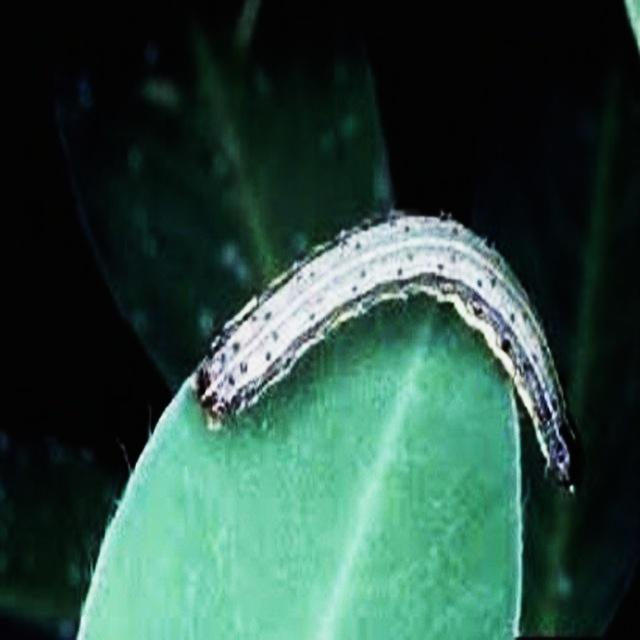worm: (191, 209, 581, 495)
